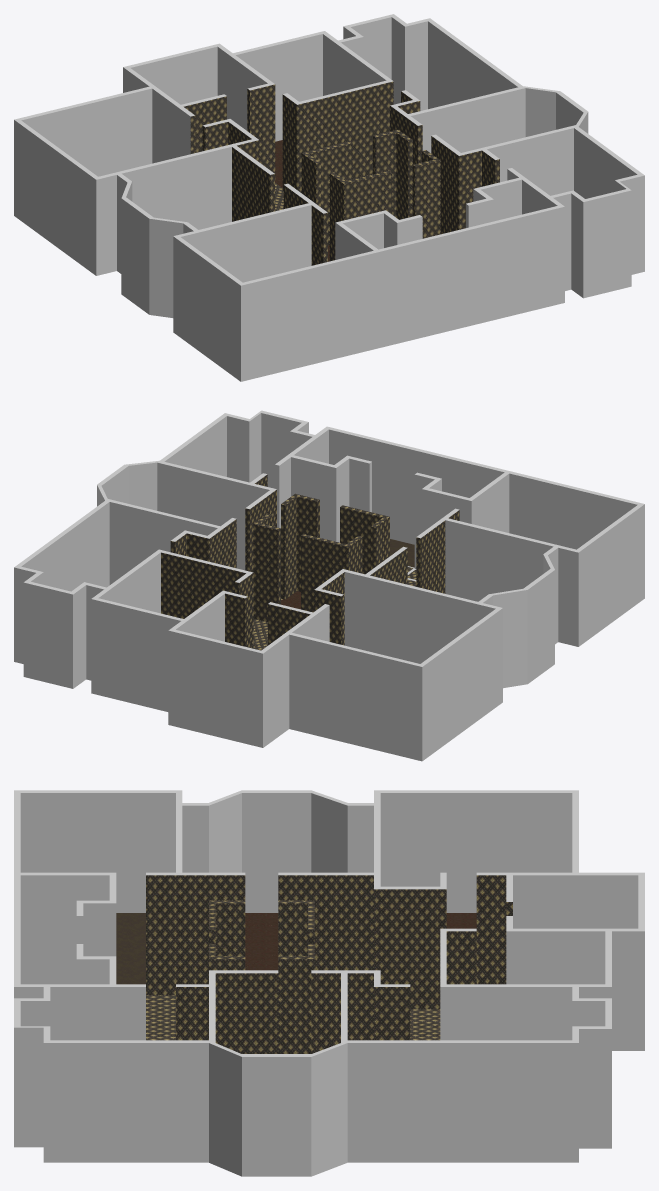
The model's file is REAL CLUE.dae.
3 views of the same model, one above another, from view 1: azimuth 30°, elevation 25°; view 2: azimuth 150°, elevation 25°; view 3: azimuth 270°, elevation 25° (orthographic). The views are drawn at different scales.
Parts seen in each view (by area): view 1: SketchUp (×16); view 2: SketchUp (×16); view 3: SketchUp (×16).
Boxes of the visible parts, bbox=[...] form: SketchUp (×16): bbox=[14, 14, 644, 381]; SketchUp (×16): bbox=[14, 410, 644, 761]; SketchUp (×16): bbox=[14, 790, 644, 1176].
Size of the model in its own units: 376 by 376 by 78.74.
